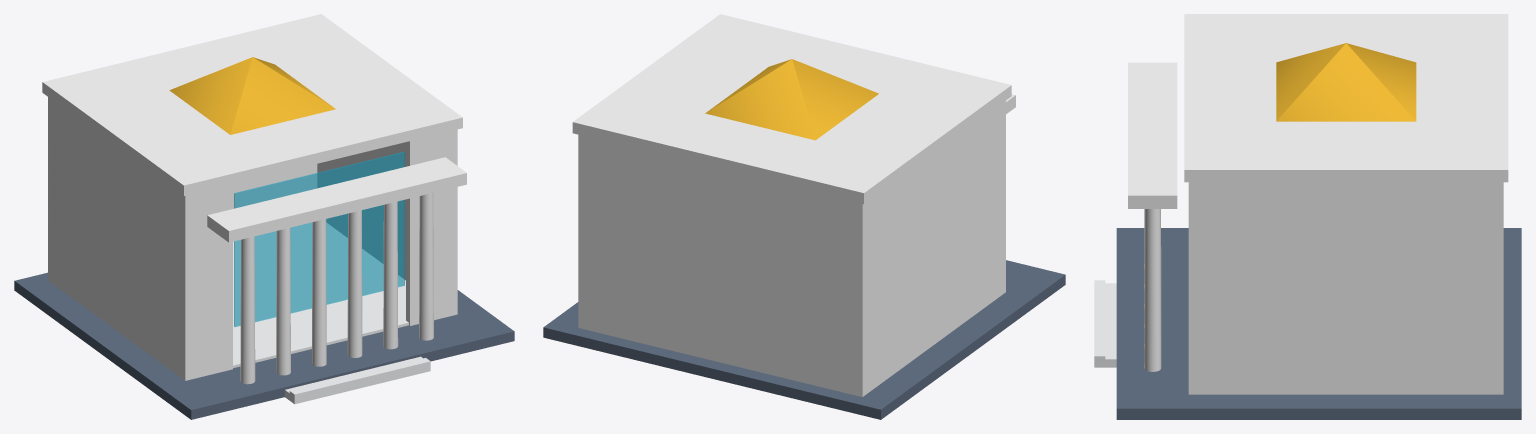
Rendered from gedung_rektorat_kampus.glb.
The picture shows the model from 3 angles, left to right: view 1: azimuth 30°, elevation 25°; view 2: azimuth 150°, elevation 25°; view 3: azimuth 270°, elevation 25°; orthographic projection. The views are drawn at different scales.
Visible parts, largest first — view 1: Gedung_Rektorat_Kampus, Undakan_Stairs; view 2: Gedung_Rektorat_Kampus; view 3: Gedung_Rektorat_Kampus, Undakan_Stairs.
Boxes of the visible parts, x1=… form: Gedung_Rektorat_Kampus: x1=14, y1=14, x2=514, y2=419; Undakan_Stairs: x1=285, y1=356, x2=430, y2=404; Gedung_Rektorat_Kampus: x1=543, y1=14, x2=1065, y2=419; Gedung_Rektorat_Kampus: x1=1116, y1=14, x2=1521, y2=419; Undakan_Stairs: x1=1094, y1=280, x2=1116, y2=367.
Bounding box in the file's own units: 19 × 14.05 × 19.
